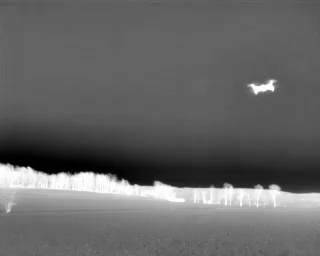DRONE: (243, 75, 281, 100)
